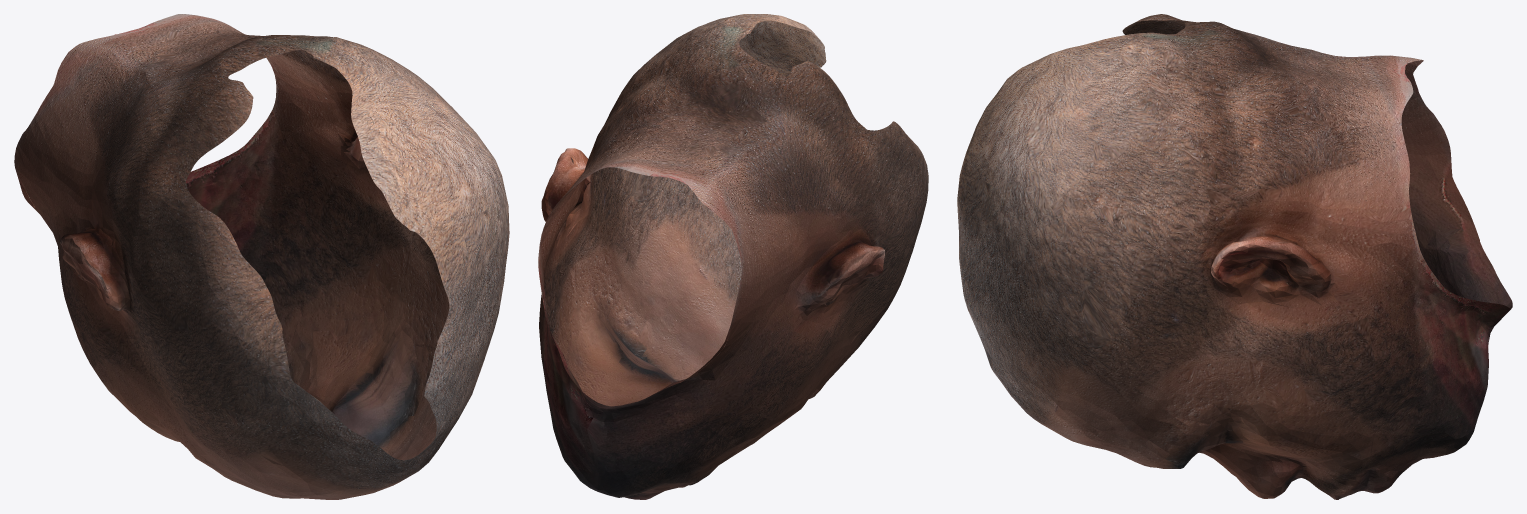
The model's file is Busto.glb.
The picture shows the model from 3 angles, left to right: view 1: azimuth 30°, elevation 25°; view 2: azimuth 150°, elevation 25°; view 3: azimuth 270°, elevation 25°; orthographic projection. The views are drawn at different scales.
Visible parts, largest first — view 1: Scan_61_PP; view 2: Scan_61_PP; view 3: Scan_61_PP.
Part boxes in pixels (bbox=[...]): Scan_61_PP: bbox=[14, 14, 509, 499]; Scan_61_PP: bbox=[538, 14, 928, 499]; Scan_61_PP: bbox=[957, 14, 1512, 499].
Size of the model in its own units: 166 by 211 by 232.
1 material, 1 textured.
